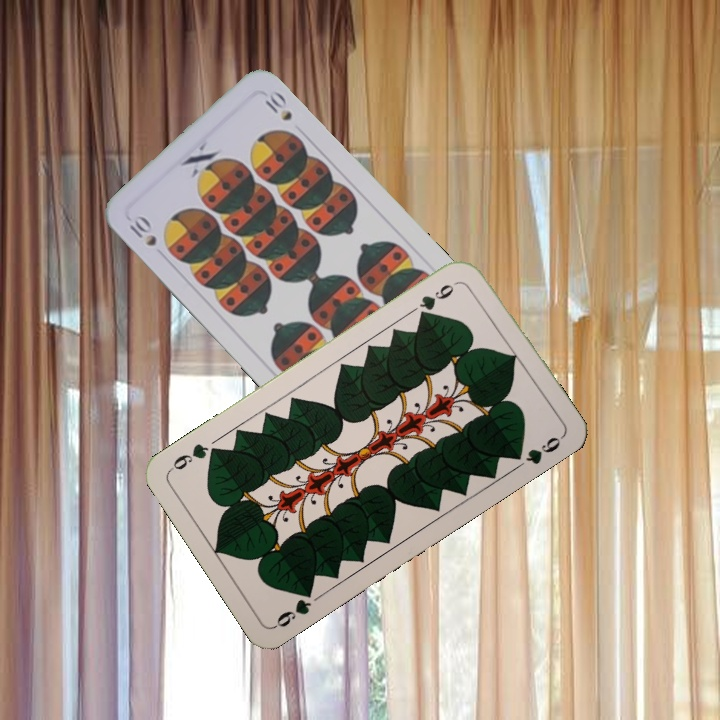G9: (270, 583, 316, 631), (415, 277, 463, 321)
S10: (123, 210, 160, 249)
